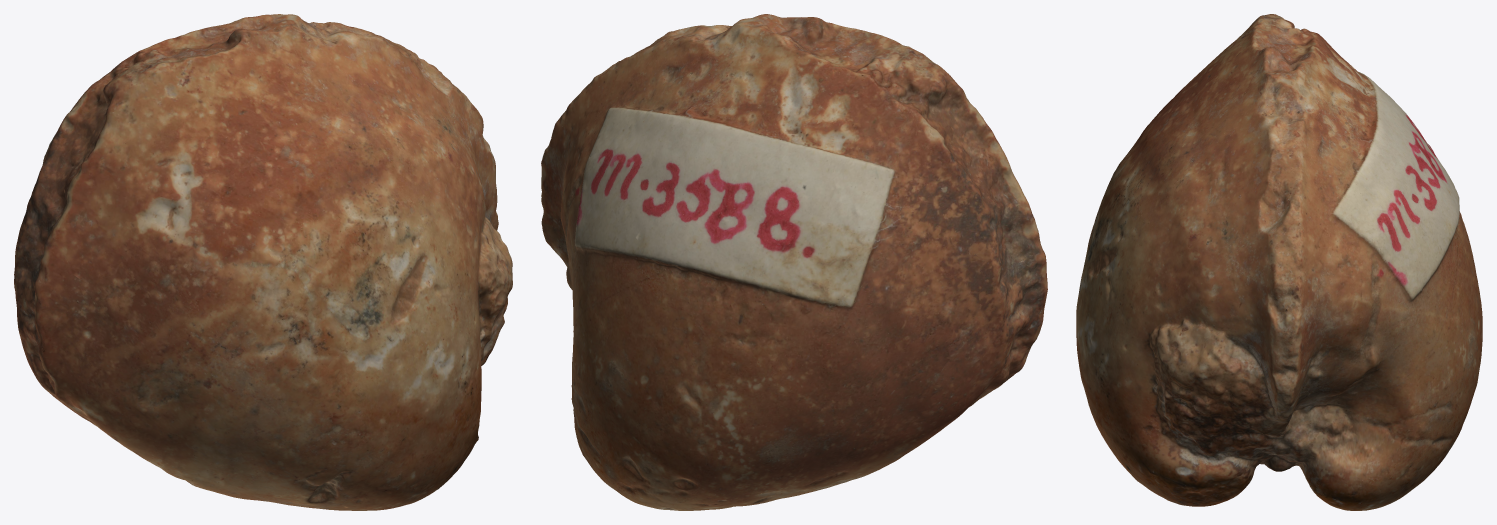
File: EWS0014144.glb
The picture shows the model from 3 angles, left to right: view 1: azimuth 30°, elevation 25°; view 2: azimuth 150°, elevation 25°; view 3: azimuth 270°, elevation 25°; orthographic projection. The views are drawn at different scales.
Parts seen in each view (by area): view 1: input; view 2: input; view 3: input.
Part boxes in pixels (box(x1,y1,x2,y2)): input: box(14, 14, 512, 510); input: box(541, 14, 1047, 510); input: box(1076, 14, 1482, 510).
Bounding box in the file's own units: 0.0187 × 0.0172 × 0.0155.
1 material, 1 textured.
